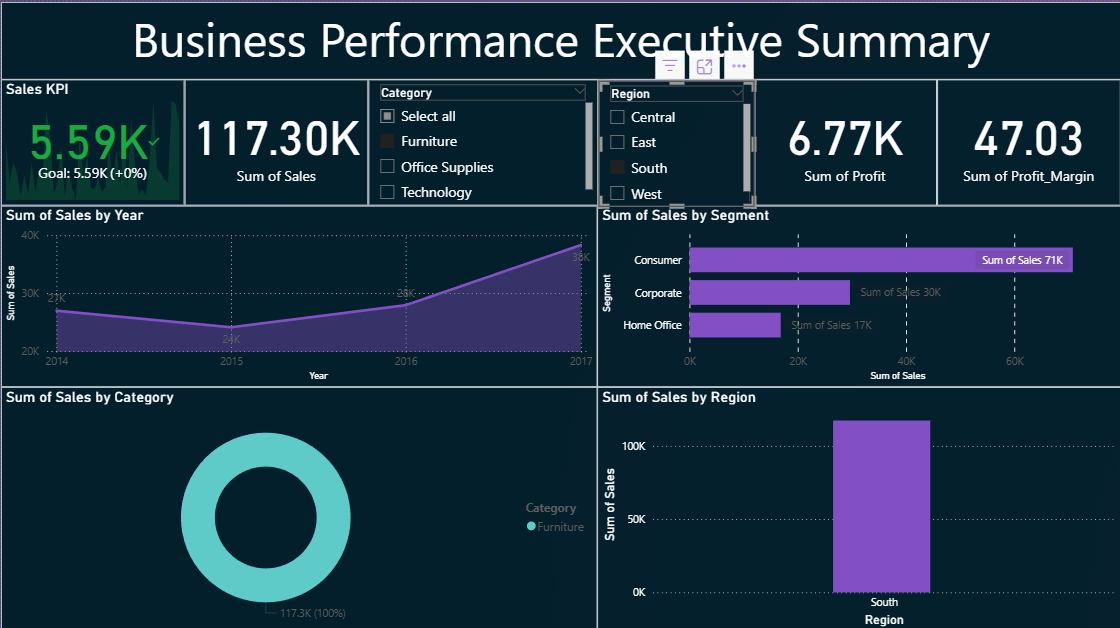

The dashboard page shown, as its layout file describes it:
{"tool":"powerbi","page":{"name":"Page 1","canvas":[1280,720],"ordinal":0},"visuals":[{"type":"lineChart","fields":{"Category":["Superstore_clean.MonthYear.Variation.Date Hierarchy.Year","Superstore_clean.MonthYear.Variation.Date Hierarchy.Quarter","Superstore_clean.MonthYear.Variation.Date Hierarchy.Month","Superstore_clean.MonthYear.Variation.Date Hierarchy.Day"],"Y":["Sum(Superstore_clean.Sales)"]},"box":[0,233.3,682,207.2],"z":0},{"type":"clusteredColumnChart","fields":{"Category":["Superstore_clean.Region"],"Y":["Sum(Superstore_clean.Sales)"]},"box":[682,440.5,598.3,279.9],"z":1000},{"type":"donutChart","fields":{"Category":["Superstore_clean.Category"],"Y":["Sum(Superstore_clean.Sales)"]},"box":[0,440.5,682,279.9],"z":2000},{"type":"kpi","title":"Sales KPI","fields":{"Indicator":["Sum(Superstore_clean.Sales)"],"TrendLine":["Superstore_clean.YearMonth"],"Goal":["Sum(Superstore_clean.Sales)"]},"box":[0,89.2,209.9,144.1],"z":3000},{"type":"slicer","fields":{"Values":["Superstore_clean.Region"]},"box":[682.9,89.6,179.1,144.3],"z":4000},{"type":"slicer","fields":{"Values":["Superstore_clean.Category"]},"box":[419.9,89.2,262.1,144.1],"z":5000},{"type":"card","fields":{"Values":["Sum(Superstore_clean.Sales)"]},"box":[209.9,89.2,209.9,144.1],"z":6000},{"type":"card","fields":{"Values":["Sum(Superstore_clean.Profit)"]},"box":[860.4,89.2,209.9,144.1],"z":7000},{"type":"card","fields":{"Values":["Sum(Superstore_clean.Profit_Margin)"]},"box":[1070.3,89.2,209.9,144.1],"z":8000},{"type":"clusteredBarChart","fields":{"Category":["Superstore_clean.Segment"],"Y":["Sum(Superstore_clean.Sales)"]},"box":[682,233.3,598.3,207.2],"z":9000},{"type":"textbox","box":[0,0,1280.3,89.2],"z":10000}]}

Visuals, with their boxes in screenshot pixels (x1, y1, x2, y2), scaled from the page's 1280x720 canvas onto the 1120x628 screenshot:
lineChart - Superstore_clean.MonthYear.Variation.Date Hierarchy.Year x Superstore_clean.MonthYear.Variation.Date Hierarchy.Quarter: bbox=[0, 203, 597, 384]
clusteredColumnChart - Superstore_clean.Region x Sum(Superstore_clean.Sales): bbox=[597, 384, 1119, 627]
donutChart - Superstore_clean.Category x Sum(Superstore_clean.Sales): bbox=[0, 384, 597, 627]
"Sales KPI" kpi: bbox=[0, 78, 184, 203]
slicer - Superstore_clean.Region: bbox=[598, 78, 754, 204]
slicer - Superstore_clean.Category: bbox=[367, 78, 597, 203]
card - Sum(Superstore_clean.Sales): bbox=[184, 78, 367, 203]
card - Sum(Superstore_clean.Profit): bbox=[753, 78, 937, 203]
card - Sum(Superstore_clean.Profit_Margin): bbox=[937, 78, 1119, 203]
clusteredBarChart - Superstore_clean.Segment x Sum(Superstore_clean.Sales): bbox=[597, 203, 1119, 384]
textbox: bbox=[0, 0, 1119, 78]
